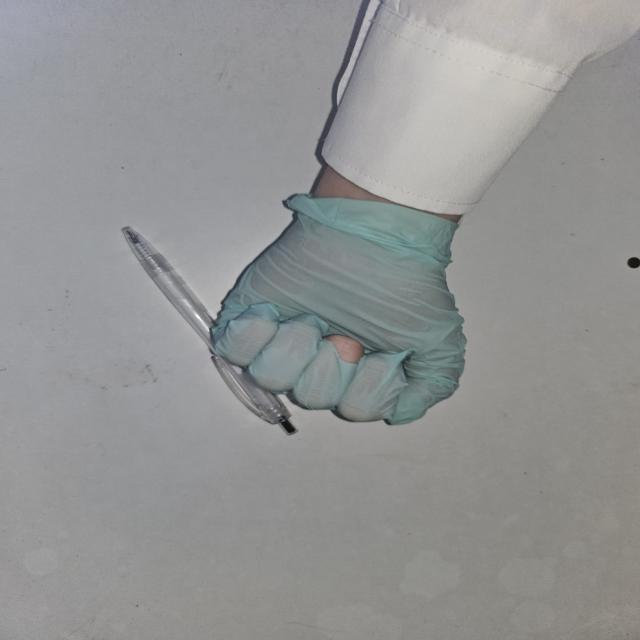gloves_damaged: (208, 195, 463, 425)
